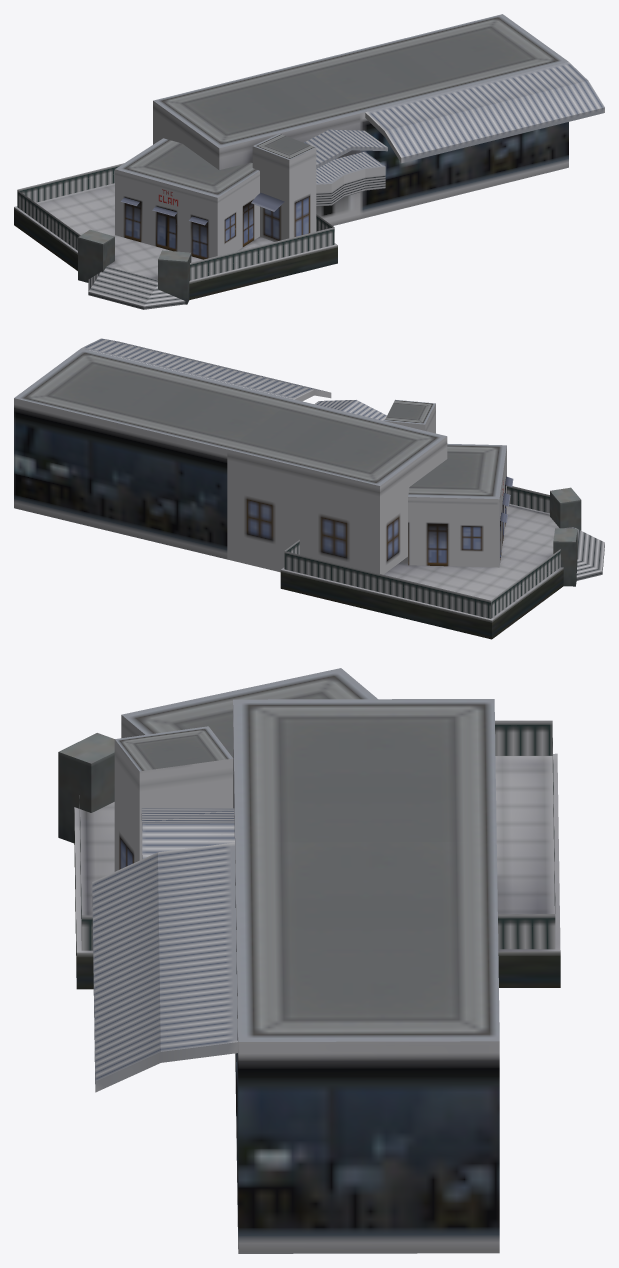
File: LobsterBuilding.fbx
3 views of the same model, one above another, from view 1: azimuth 30°, elevation 25°; view 2: azimuth 150°, elevation 25°; view 3: azimuth 270°, elevation 25° (orthographic). The views are drawn at different scales.
Parts seen in each view (by area): view 1: Lobster_Building3; view 2: Lobster_Building3; view 3: Lobster_Building3.
Boxes of the visible parts, left/top/right/bottom form: Lobster_Building3: left=14, top=14, right=604, bottom=309; Lobster_Building3: left=14, top=338, right=604, bottom=639; Lobster_Building3: left=58, top=668, right=560, bottom=1253.
Size of the model in its own units: 19.43 by 4 by 8.6.
